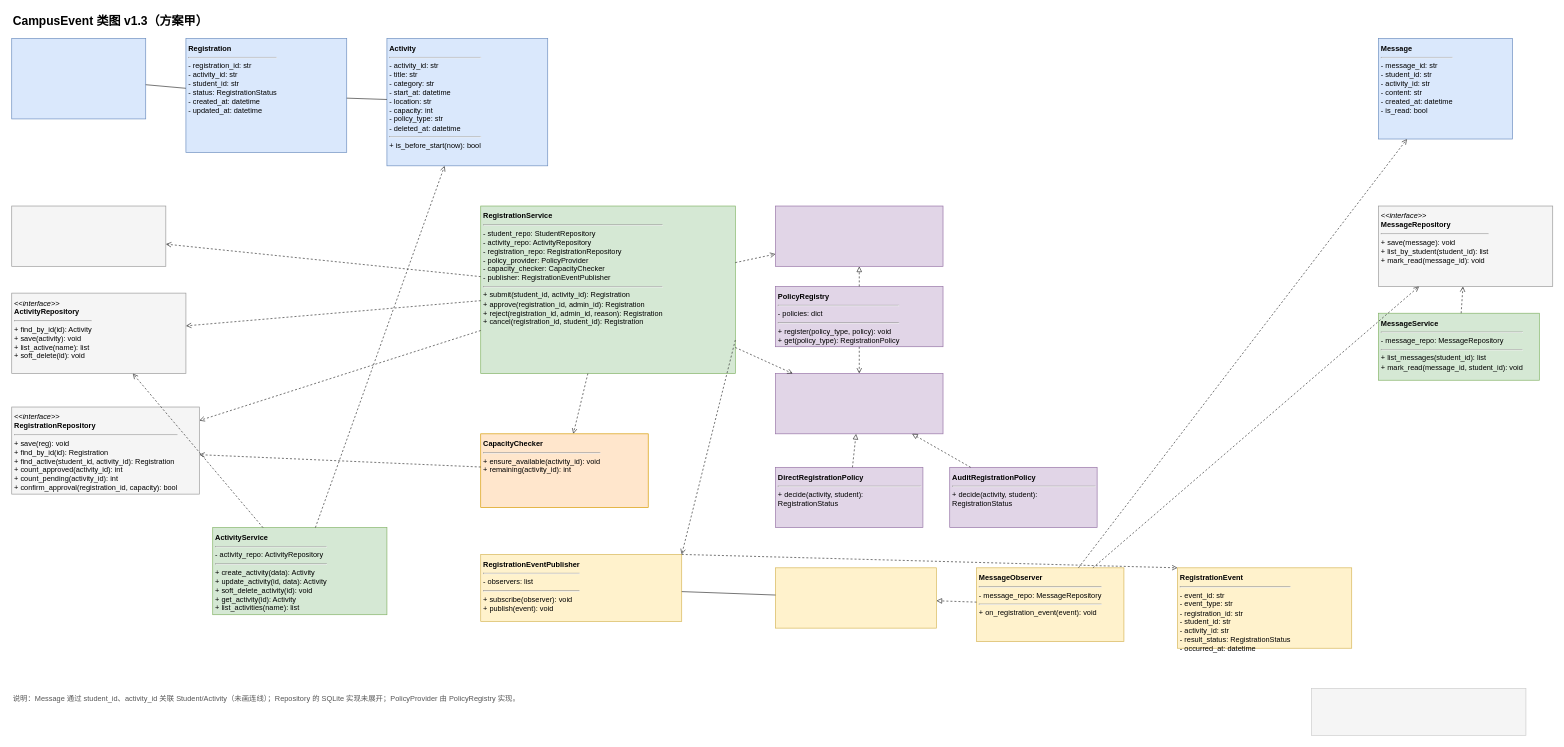
Image size: 1564x747. Some labels were removed from this diagram. Here are the shapes that lost their labels. From the top down, the centre of each, then its label:
(x=78, y=78): Student - student_id: str - name: str
(x=88, y=235): <<interface>> StudentRepository + find_by_id(id): Student
(x=859, y=235): <<interface>> PolicyProvider + get(policy_type): RegistrationPolicy
(x=859, y=403): <<interface>> RegistrationPolicy + decide(activity, student): RegistrationStatus
(x=855, y=597): <<interface>> RegistrationObserver + on_registration_event(event): void
(x=1418, y=711): 版本：v1.3 | 日期：2026-11-22 | 阶段：CR 前基线段（baseline-v1） | 方案：甲
